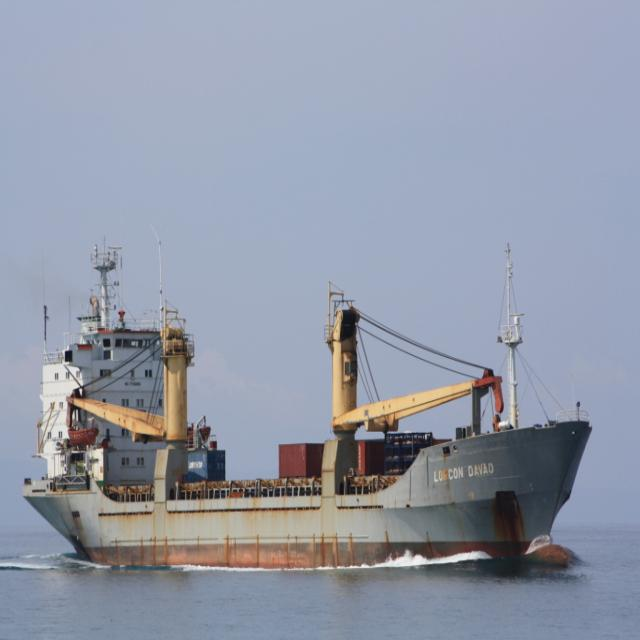Boat: (27, 222, 577, 584)
